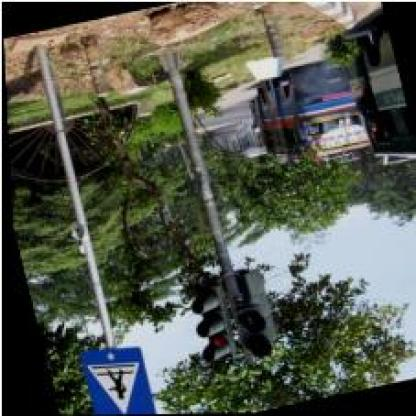red: (183, 282, 235, 367)
